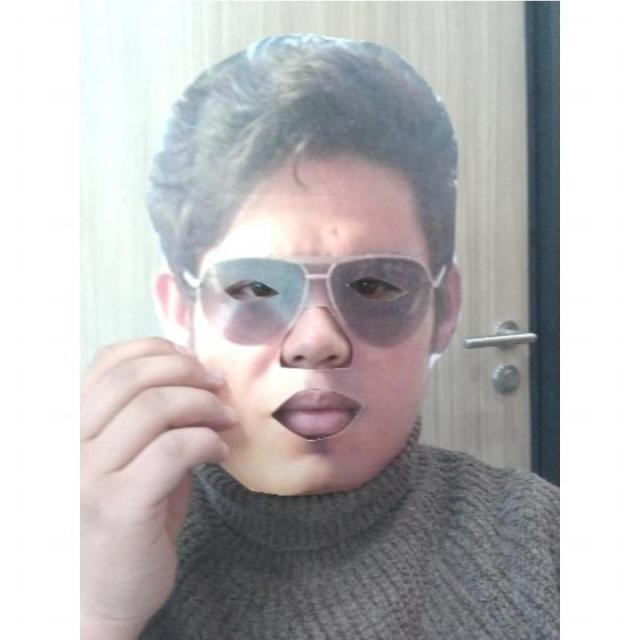mask: (148, 34, 468, 494)
